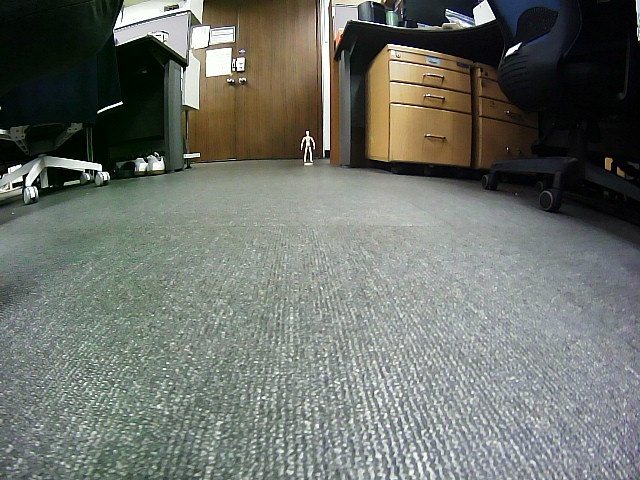person: (300, 131, 315, 163)
